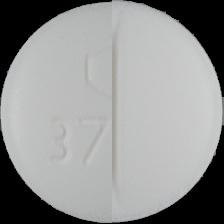59762-3742: (0, 0, 224, 224)
